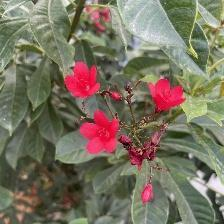jatropha: (79, 110, 123, 161), (147, 77, 190, 116), (63, 62, 104, 99)
